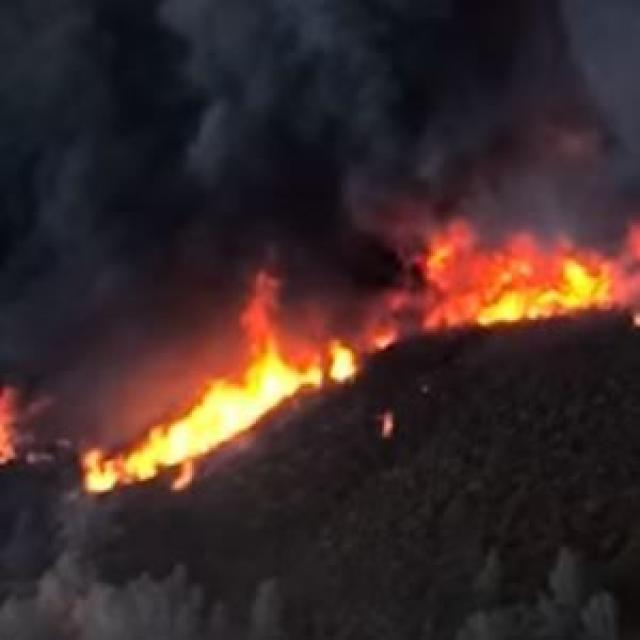Fire: (10, 257, 640, 495)
Smoke: (0, 0, 634, 247), (0, 248, 348, 366)
